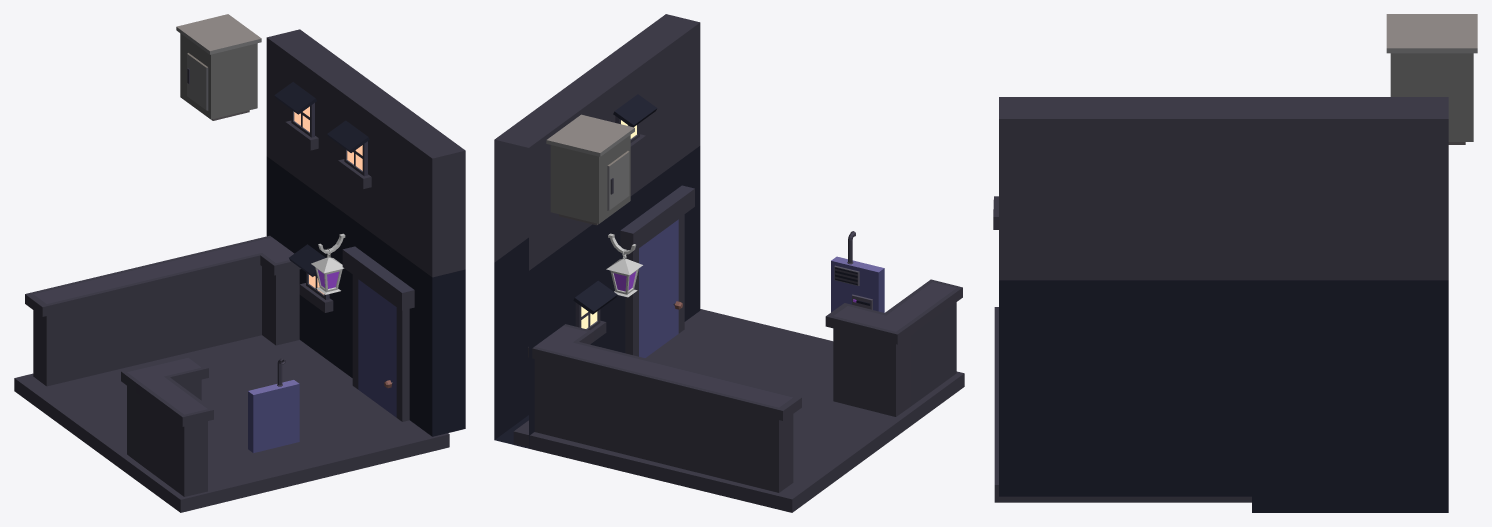
Rendered from CMHome101.fbx.
The picture shows the model from 3 angles, left to right: view 1: azimuth 30°, elevation 25°; view 2: azimuth 150°, elevation 25°; view 3: azimuth 270°, elevation 25°; orthographic projection. The views are drawn at different scales.
Visible parts, largest first — view 1: HomeFacade.005, Fence.016, MORP Transformer Cube.004, Windows.113, CornerHome_DoorFrame.085, CornerHome_Door.074, SecurityBox.014, Lantern.027; view 2: HomeFacade.005, Fence.016, MORP Transformer Cube.004, CornerHome_Door.074, CornerHome_DoorFrame.085, Windows.113, SecurityBox.014, Lantern.027; view 3: HomeFacade.005, MORP Transformer Cube.004.
Part boxes in pixels (left/top/right/bottom): HomeFacade.005: left=14, top=29, right=465, bottom=512; Fence.016: left=25, top=235, right=300, bottom=496; MORP Transformer Cube.004: left=176, top=14, right=261, bottom=120; Windows.113: left=274, top=82, right=371, bottom=312; CornerHome_DoorFrame.085: left=342, top=246, right=414, bottom=421; CornerHome_Door.074: left=358, top=279, right=396, bottom=417; SecurityBox.014: left=248, top=358, right=299, bottom=452; Lantern.027: left=311, top=233, right=345, bottom=294; HomeFacade.005: left=494, top=14, right=964, bottom=512; Fence.016: left=528, top=279, right=962, bottom=492; MORP Transformer Cube.004: left=546, top=114, right=634, bottom=225; CornerHome_Door.074: left=639, top=219, right=682, bottom=357; CornerHome_DoorFrame.085: left=620, top=185, right=694, bottom=356; Windows.113: left=573, top=94, right=657, bottom=344; SecurityBox.014: left=831, top=231, right=884, bottom=312; Lantern.027: left=606, top=233, right=642, bottom=297; HomeFacade.005: left=994, top=97, right=1448, bottom=512; MORP Transformer Cube.004: left=1386, top=14, right=1477, bottom=144.
Bounding box in the file's own units: 931 × 973 × 1004.
